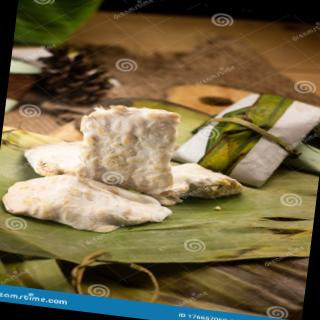Tempe: (19, 94, 254, 217), (1, 167, 177, 242)
